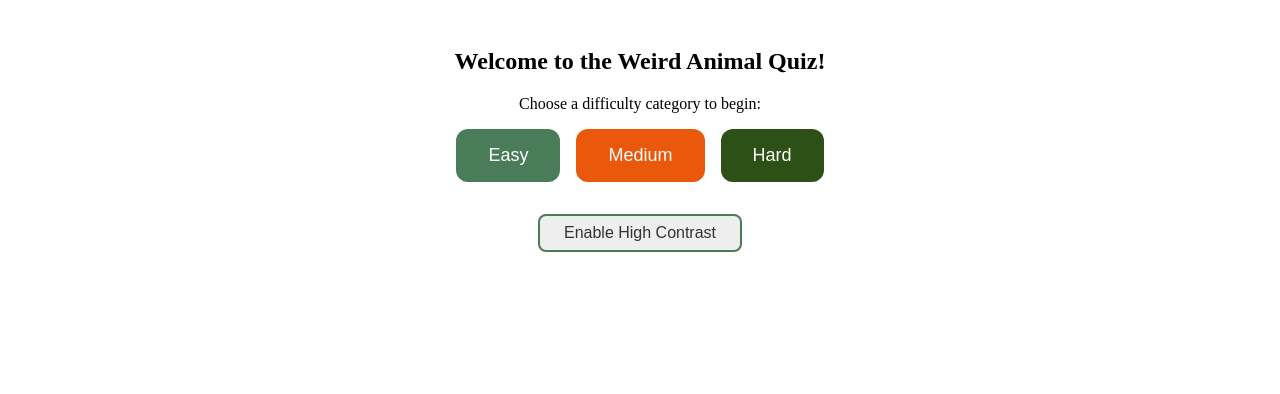
Test: QuizContainer Accessibility & Interaction › renders answer choices as radio buttons with correct ARIA roles
The width and height of the screenshot is (1280, 394).
Step 1. Click the button "Easy" → (508, 155), box left=456, top=129, right=560, bottom=182
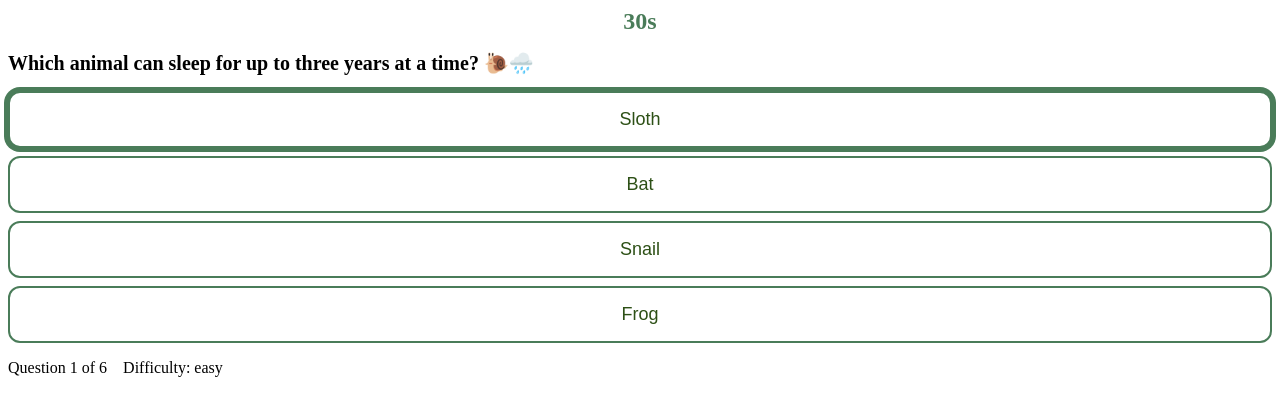
Now the element showing "Sloth Bat Snail Frog" is shown
Now the radio button labelled "Sloth" is shown, box left=8, top=91, right=1272, bottom=148
